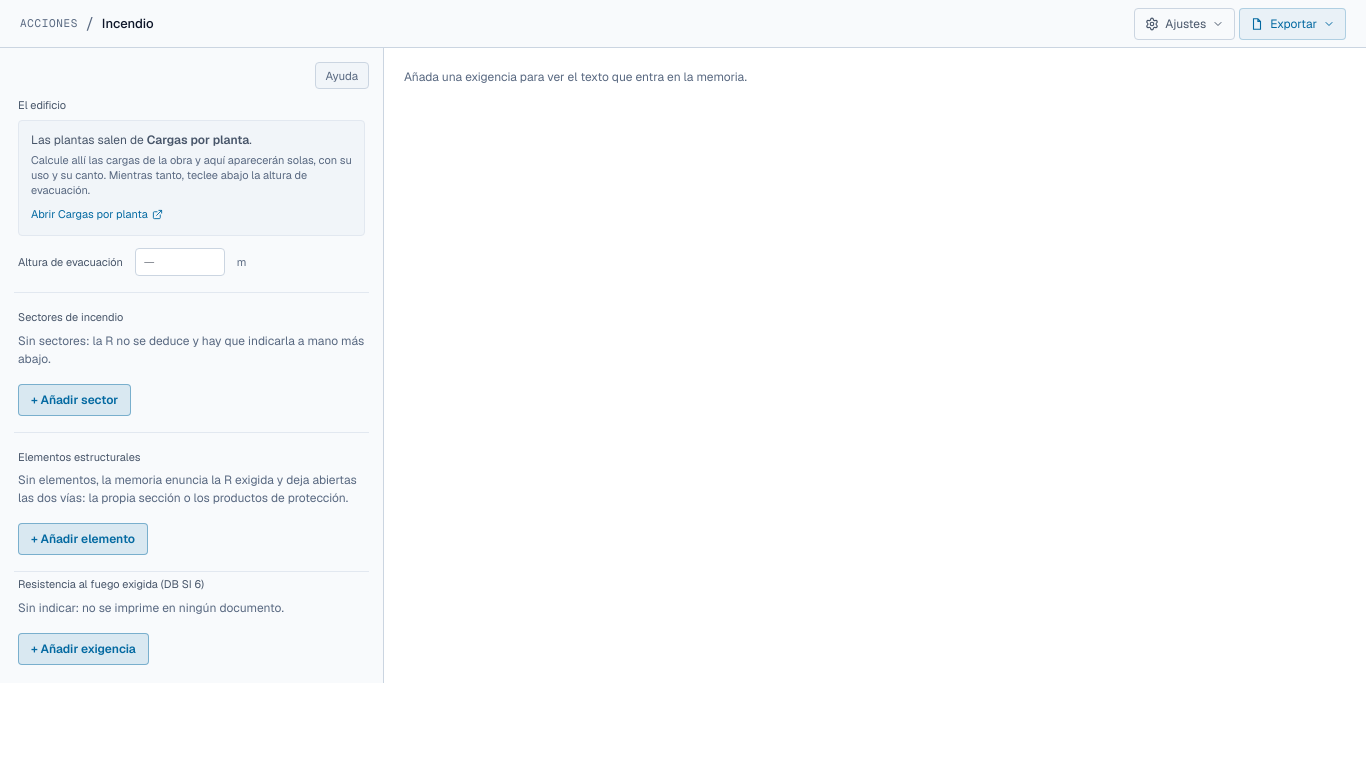
Scenario: los sectores, de la tabla 3.1 a la pantalla › el uso trae la R, y el documento dice de dónde sale
In the number field named "Altura de evacuación del edificio": coordinates (180, 262) [135,248,225,276], type "12"
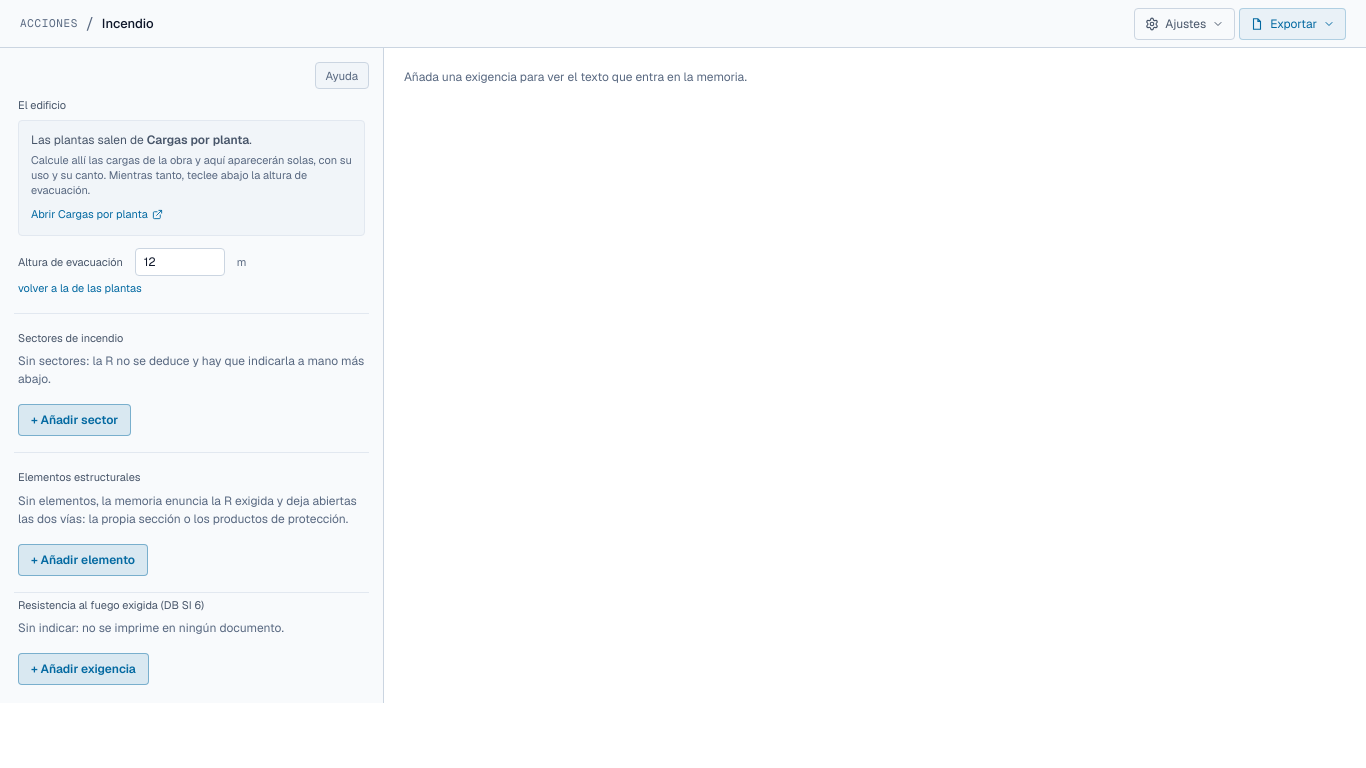
Click the button "+ Añadir sector": coordinates (75, 420) [18,404,131,436]
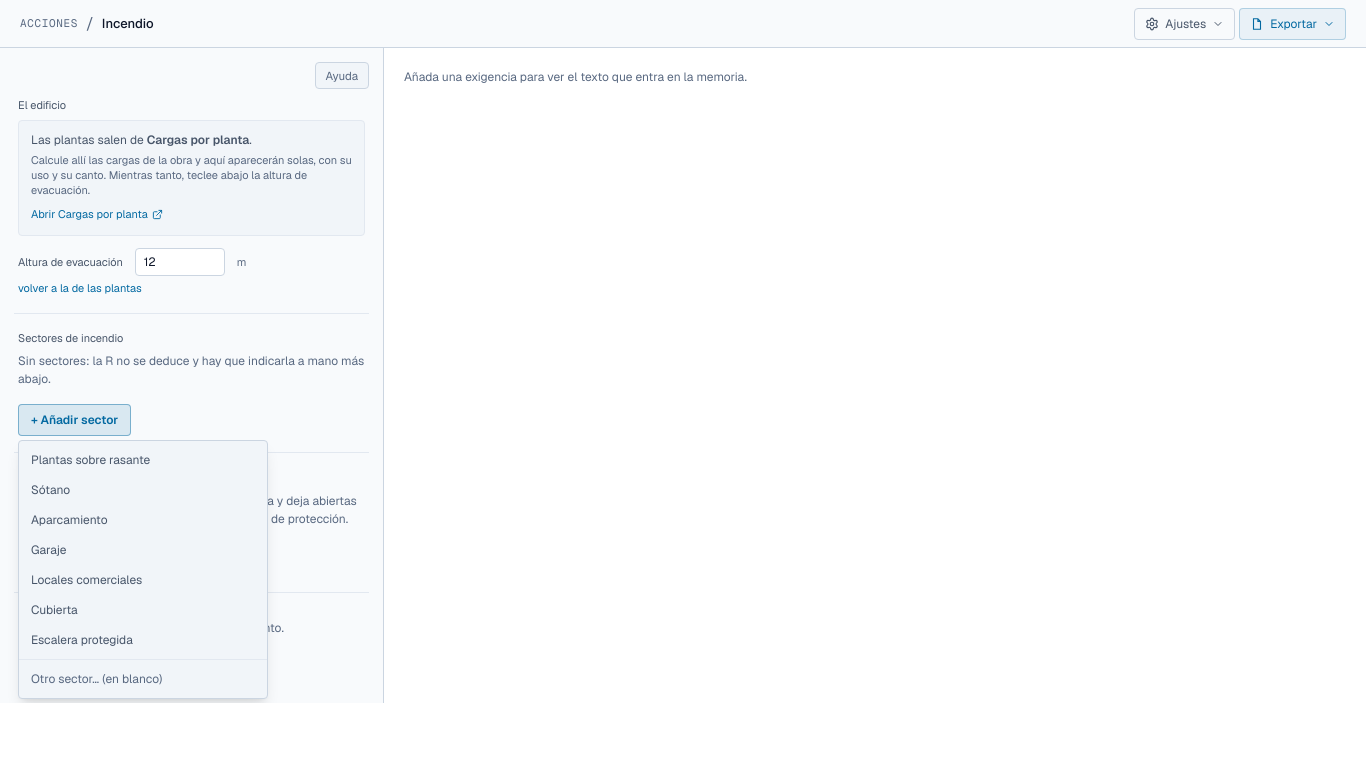
Click the menu item "Plantas sobre rasante": coordinates (143, 460) [19,445,267,475]
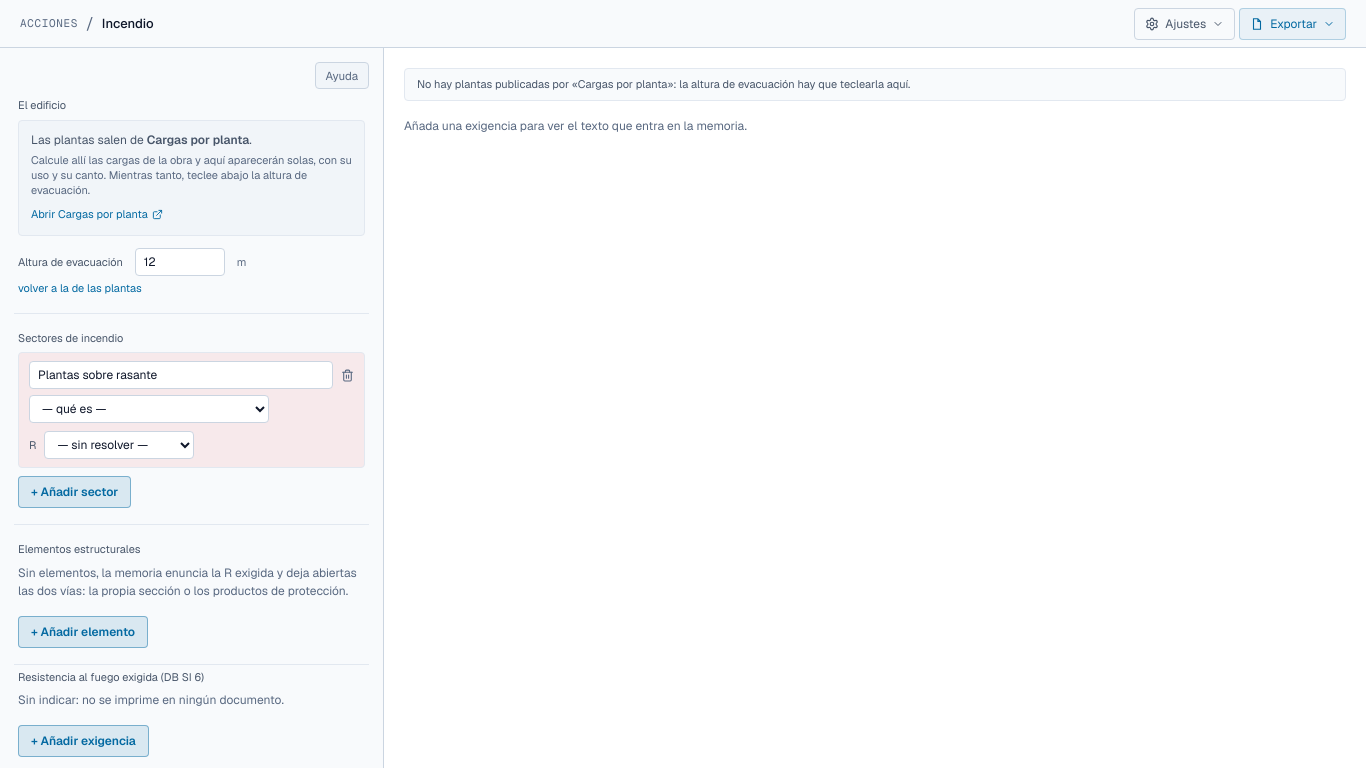
Select "Residencial Vivienda" in the dropdown named "Qué es Plantas sobre rasante": coordinates (149, 409) [29,395,269,423]
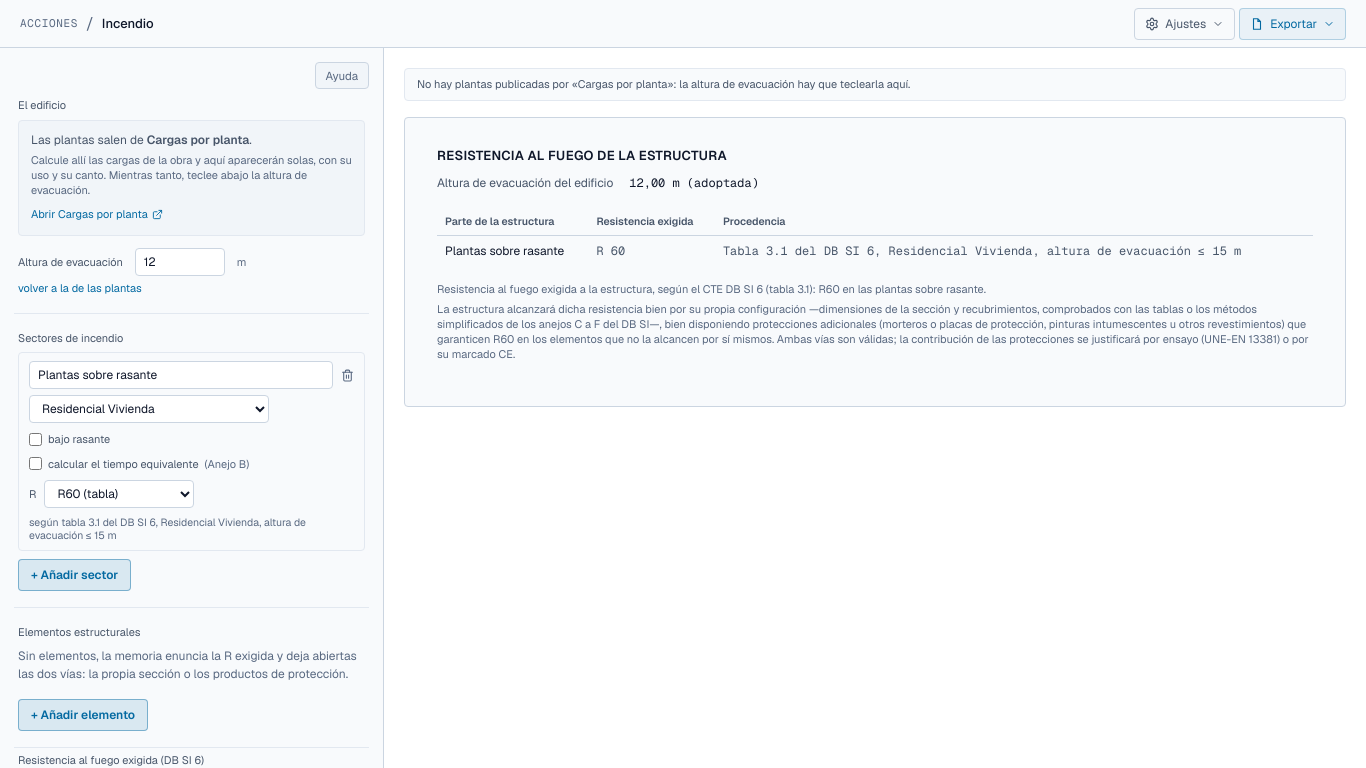
Check: the text "según tabla 3.1 del DB SI 6" is shown, box [29,515,306,542]
Check: the list item "R60 en las plantas sobre rasante" is shown, box [437,282,986,296]
